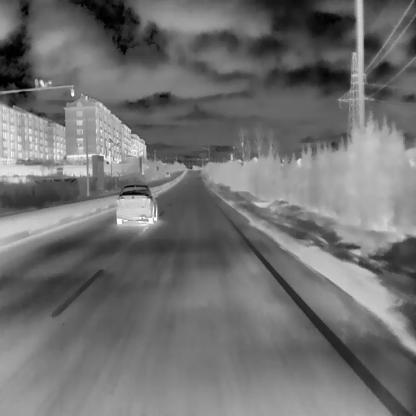car: (115, 183, 157, 223), (164, 171, 170, 177)
